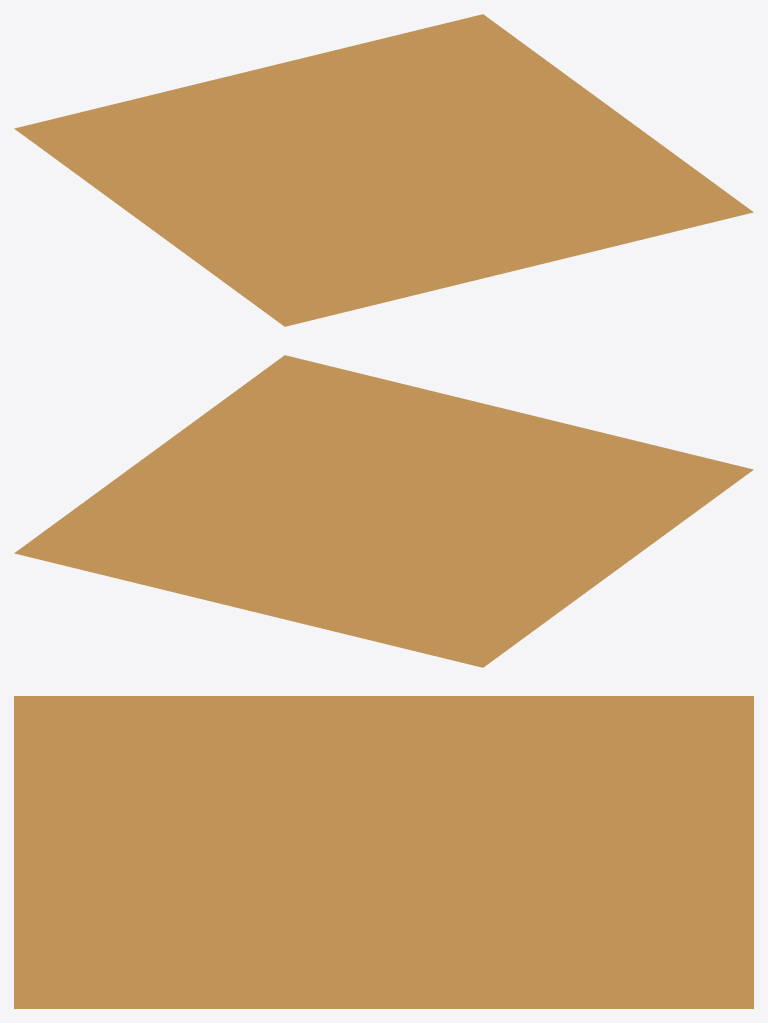
3 views of the same model, one above another, from view 1: azimuth 30°, elevation 25°; view 2: azimuth 150°, elevation 25°; view 3: azimuth 270°, elevation 25° (orthographic). The views are drawn at different scales.
Size of the model in its own units: 1 by 0 by 1.
1 material, 1 textured.
